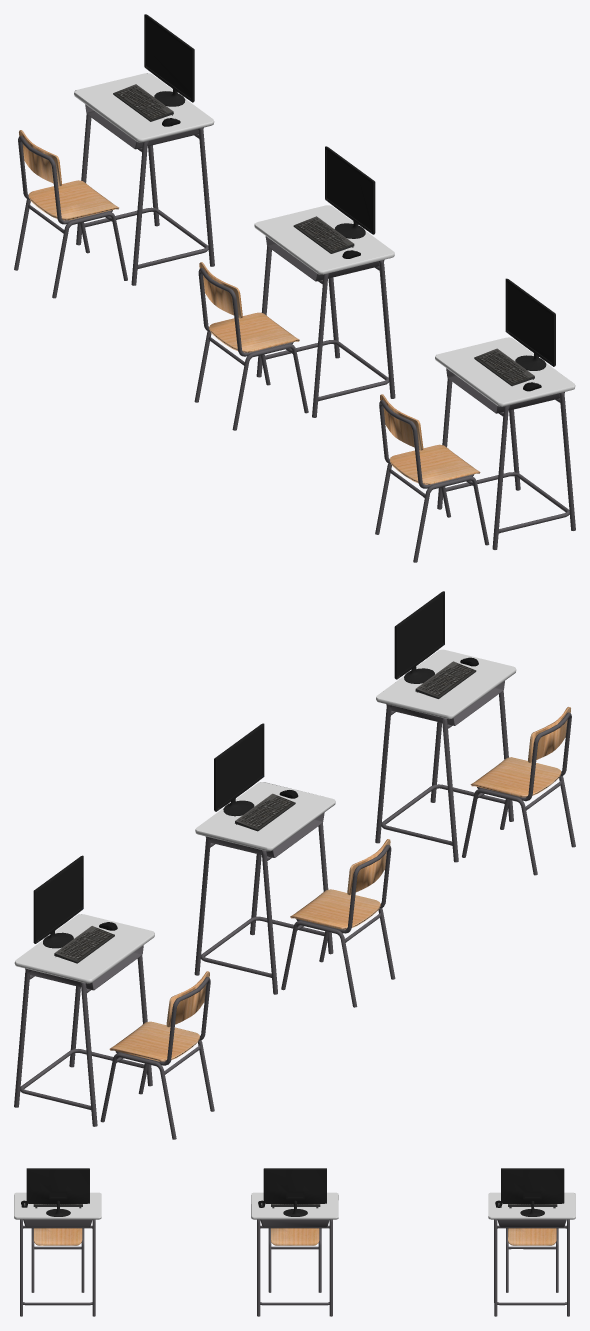
The model's file is banchi.glb.
3 renders of one model, top to bottom at view 1: azimuth 30°, elevation 25°; view 2: azimuth 150°, elevation 25°; view 3: azimuth 270°, elevation 25°, orthographic. The views are drawn at different scales.
Visible parts, largest first — view 1: Work_Desk, PC.001, Soffitto, Porta; view 2: Work_Desk, PC.001, Soffitto, Porta; view 3: PC.001, Work_Desk, Soffitto, Porta.
Boxes of the visible parts, x1,y1,x2,y2 form: Work_Desk: [14, 104, 575, 562]; PC.001: [113, 14, 555, 386]; Soffitto: [74, 73, 575, 406]; Porta: [19, 130, 480, 484]; Work_Desk: [14, 681, 575, 1139]; PC.001: [33, 591, 476, 963]; Soffitto: [14, 649, 516, 983]; Porta: [109, 707, 570, 1061]; PC.001: [26, 1168, 564, 1216]; Work_Desk: [20, 1219, 569, 1316]; Soffitto: [14, 1192, 575, 1219]; Porta: [33, 1228, 556, 1245].
Bounding box in the file's own units: 1.74 × 2.32 × 8.2.
Materials: 5 (5 with a texture image).
